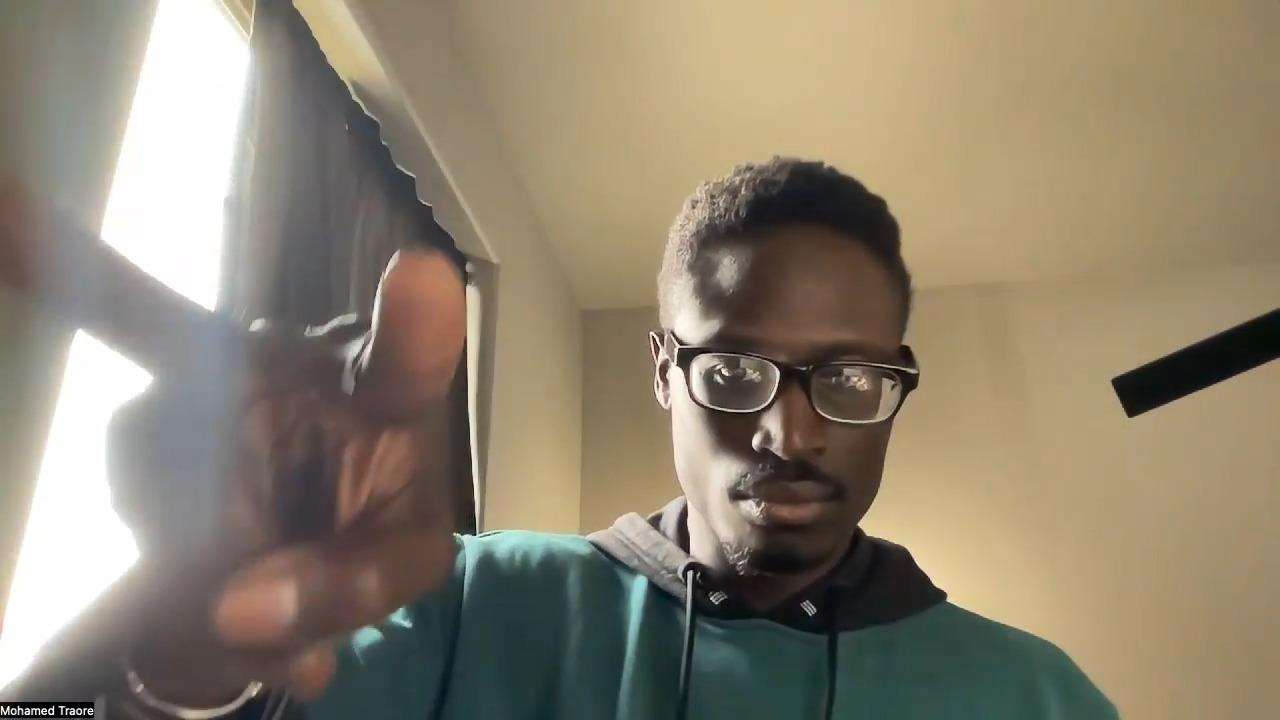Scissors: (0, 170, 471, 706)
